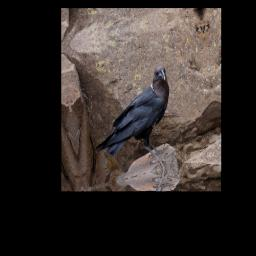Crow: (85, 64, 181, 186)
